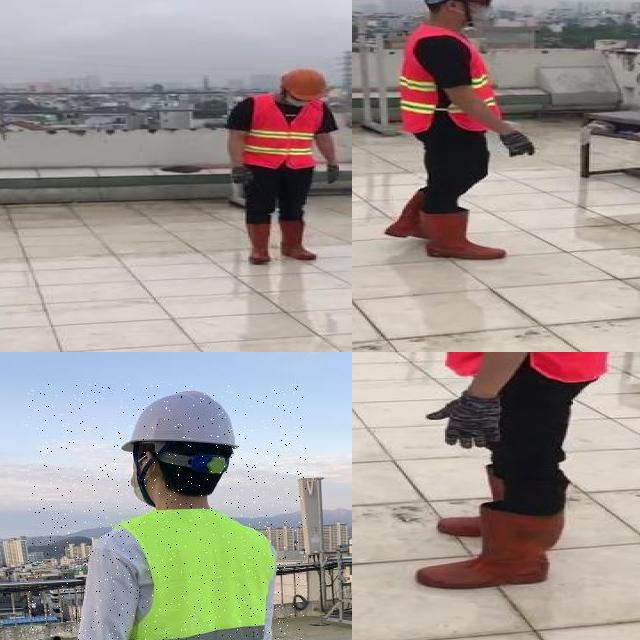boots: (415, 504, 564, 588), (418, 210, 506, 259), (383, 189, 427, 238), (276, 220, 318, 259), (245, 223, 273, 264)
face_mask: (458, 0, 499, 24)
hand_glove: (426, 394, 506, 449), (494, 131, 536, 158), (227, 166, 257, 187), (316, 161, 341, 186)
head_helmet: (119, 390, 239, 451), (279, 69, 330, 102)
person: (27, 384, 306, 640), (400, 352, 633, 600), (367, 0, 541, 263), (221, 65, 349, 268)
vest: (110, 508, 276, 640), (400, 24, 506, 132), (241, 95, 323, 170)
